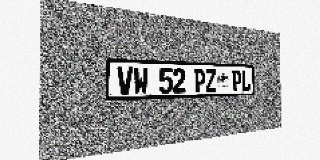2: (173, 68, 185, 93)
5: (159, 68, 173, 94)
L: (242, 70, 250, 91)
P: (194, 69, 205, 92), (232, 70, 241, 91)
V: (117, 67, 133, 95)
W: (133, 67, 148, 94)
Z: (205, 69, 216, 92)
